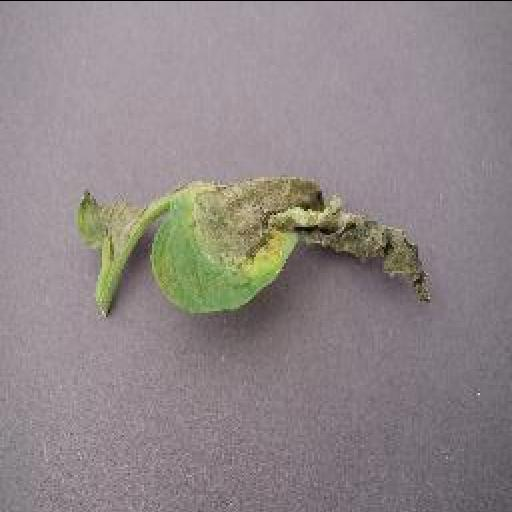disease_tomato: (150, 169, 436, 319)
